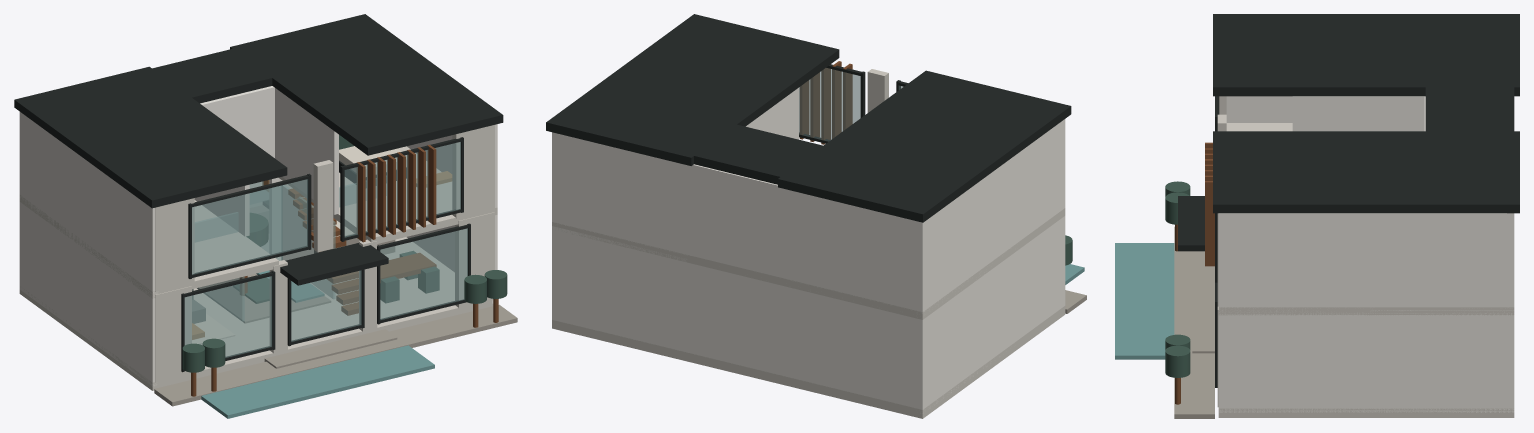
Rendered from courtyard-house-demo-v3.glb.
3 renders of one model, left to right at view 1: azimuth 30°, elevation 25°; view 2: azimuth 150°, elevation 25°; view 3: azimuth 270°, elevation 25°, orthographic. The views are drawn at different scales.
Parts seen in each view (by area): view 1: LeftWall, RoofLeft, RoofRight, GroundFloor, ExteriorUpperLeftGlass, Pool, ExteriorGroundKitchenGlass, PoolDeck, ExteriorGroundLivingGlass, UpperFloorLeft, UpperRightPartition, RoofBridge (+43 smaller); view 2: BackWallGround, BackWallUpper, LeftWall, RoofLeft, RoofRight, GroundFloor, RoofBridge, ExteriorUpperRightGlass, UpperFloorLeft, UpperRightPartition, UpperFloorRight, UpperFloorBridge (+5 smaller); view 3: RightWall, RoofRight, RoofLeft, Pool, UpperLeftPartition, PoolDeck, RoofBridge, GroundFloor, UpperFloorRight, LeftWall, ExteriorFrontStep, ExteriorEntranceCanopy (+6 smaller).
Part boxes in pixels (x1,y1,x2,y2): LeftWall: [19, 114, 158, 386]; RoofLeft: [14, 66, 287, 208]; RoofRight: [230, 14, 503, 155]; GroundFloor: [19, 237, 493, 390]; ExteriorUpperLeftGlass: [192, 179, 308, 274]; Pool: [201, 345, 434, 418]; ExteriorGroundKitchenGlass: [380, 228, 467, 319]; PoolDeck: [154, 304, 517, 406]; ExteriorGroundLivingGlass: [184, 276, 272, 357]; UpperFloorLeft: [19, 195, 278, 298]; UpperRightPartition: [275, 88, 338, 214]; RoofBridge: [151, 47, 274, 103]; BackWallGround: [552, 226, 926, 409]; BackWallUpper: [552, 132, 926, 312]; LeftWall: [916, 119, 1065, 413]; RoofLeft: [778, 70, 1071, 222]; RoofRight: [546, 14, 839, 165]; GroundFloor: [552, 306, 1065, 418]; RoofBridge: [693, 124, 828, 184]; ExteriorUpperRightGlass: [799, 68, 860, 141]; UpperFloorLeft: [786, 208, 1065, 319]; UpperRightPartition: [746, 87, 798, 139]; UpperFloorRight: [552, 222, 687, 262]; UpperFloorBridge: [688, 255, 786, 286]; RightWall: [1218, 213, 1514, 412]; RoofRight: [1213, 131, 1519, 213]; RoofLeft: [1213, 14, 1519, 96]; Pool: [1115, 243, 1174, 359]; UpperLeftPartition: [1292, 96, 1425, 131]; PoolDeck: [1174, 226, 1214, 418]; RoofBridge: [1425, 84, 1514, 134]; GroundFloor: [1218, 408, 1514, 417]; UpperFloorRight: [1218, 307, 1514, 315]; LeftWall: [1226, 96, 1292, 122]; ExteriorFrontStep: [1192, 285, 1214, 353]; ExteriorEntranceCanopy: [1178, 196, 1204, 251].
Size of the model in its own units: 12.2 by 6.44 by 10.95.
